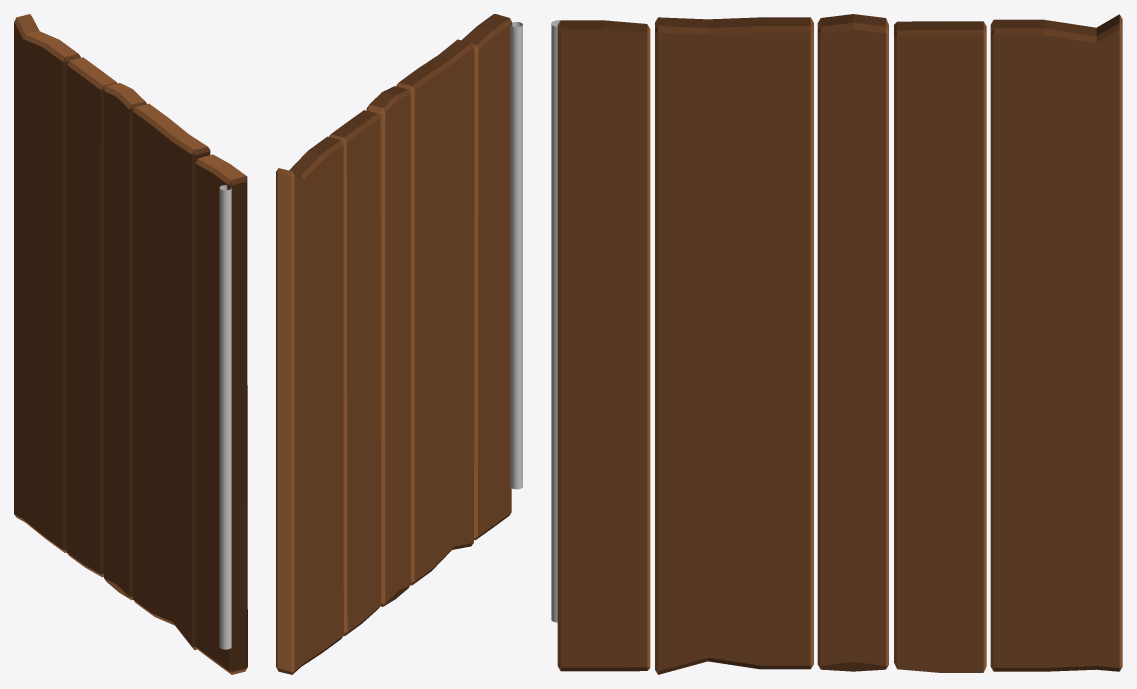
The model's file is Puerta madera.fbx.
3 views of the same model, side by side, from view 1: azimuth 30°, elevation 25°; view 2: azimuth 150°, elevation 25°; view 3: azimuth 270°, elevation 25° (orthographic). The views are drawn at different scales.
Parts seen in each view (by area): view 1: Small Foundation C, Cylinder003; view 2: Small Foundation C, Cylinder003; view 3: Small Foundation C, Cylinder003.
Part boxes in pixels (<box>): Small Foundation C: <box>14,14,247,674</box>; Cylinder003: <box>219,185,231,649</box>; Small Foundation C: <box>276,14,512,674</box>; Cylinder003: <box>510,22,522,489</box>; Small Foundation C: <box>557,14,1122,674</box>; Cylinder003: <box>551,20,560,622</box>.
Size of the model in its own units: 0.6506 by 10.79 by 8.57.
